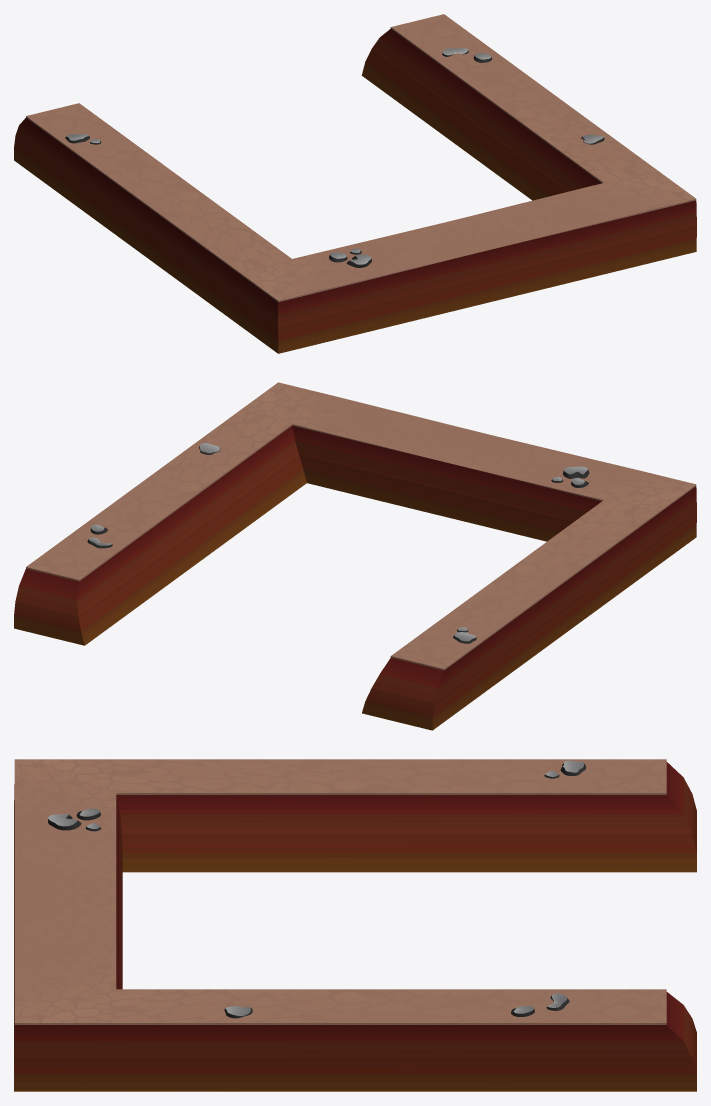
The model's file is 沙漠區(牆壁).fbx.
3 views of the same model, one above another, from view 1: azimuth 30°, elevation 25°; view 2: azimuth 150°, elevation 25°; view 3: azimuth 270°, elevation 25° (orthographic). The views are drawn at different scales.
Parts seen in each view (by area): view 1: Box002, 圓柱體; view 2: Box002, 圓柱體; view 3: Box002, 圓柱體.
Part boxes in pixels (x1=…): Box002: x1=14, y1=14, x2=696, y2=353; 圓柱體: x1=65, y1=48, x2=604, y2=267; Box002: x1=14, y1=382, x2=696, y2=730; 圓柱體: x1=87, y1=443, x2=589, y2=643; Box002: x1=14, y1=759, x2=696, y2=1091; 圓柱體: x1=48, y1=760, x2=585, y2=1018.
Bounding box in the file's own units: 83.51 × 10.68 × 91.23.
